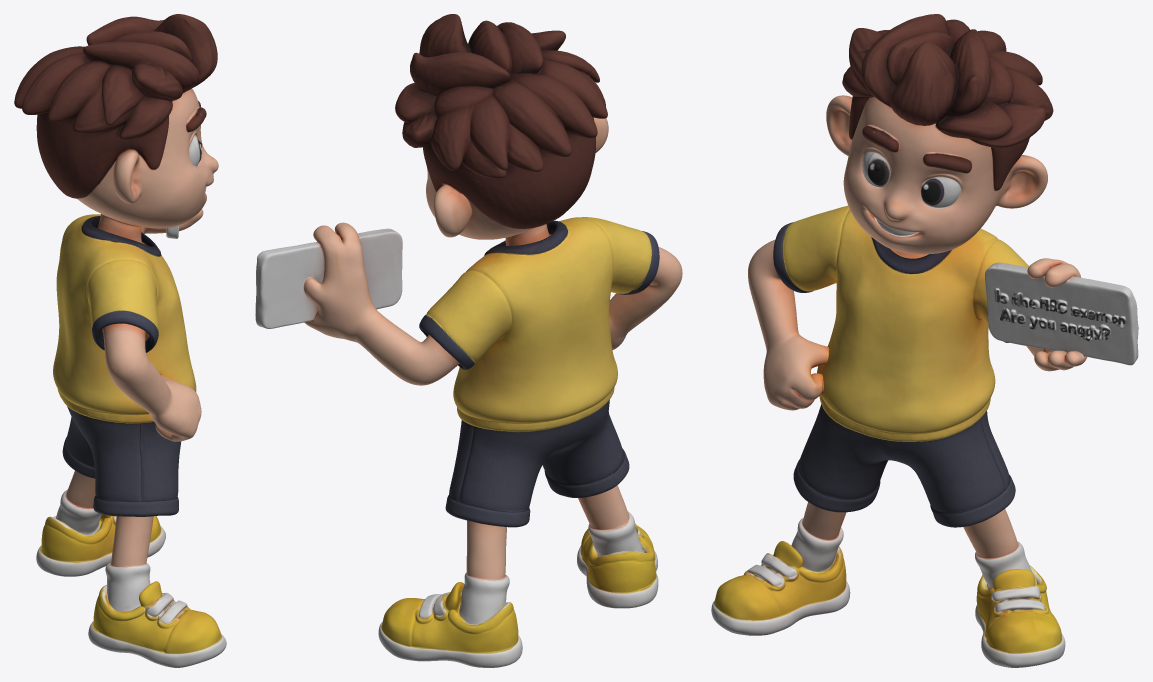
The picture shows the model from 3 angles, left to right: view 1: azimuth 30°, elevation 25°; view 2: azimuth 150°, elevation 25°; view 3: azimuth 270°, elevation 25°; orthographic projection. The views are drawn at different scales.
Parts seen in each view (by area): view 1: tripo_node_62faf049-f8c3-4f70-b6eb-aa1c90d94ce9; view 2: tripo_node_62faf049-f8c3-4f70-b6eb-aa1c90d94ce9; view 3: tripo_node_62faf049-f8c3-4f70-b6eb-aa1c90d94ce9.
Part boxes in pixels (left/top/right/bottom): tripo_node_62faf049-f8c3-4f70-b6eb-aa1c90d94ce9: left=14, top=14, right=226, bottom=667; tripo_node_62faf049-f8c3-4f70-b6eb-aa1c90d94ce9: left=255, top=14, right=682, bottom=667; tripo_node_62faf049-f8c3-4f70-b6eb-aa1c90d94ce9: left=711, top=14, right=1138, bottom=667.
Size of the model in its own units: 0.4462 by 1 by 0.6251.
Materials: 1 (1 with a texture image).
